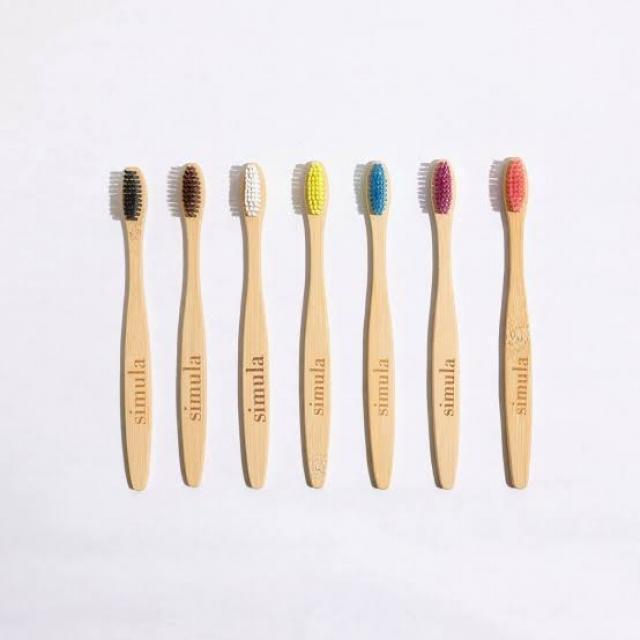toothbrush: (232, 157, 276, 498), (294, 162, 338, 494), (424, 156, 466, 494), (172, 153, 212, 503), (498, 154, 538, 502), (115, 152, 153, 503), (362, 158, 400, 496)
